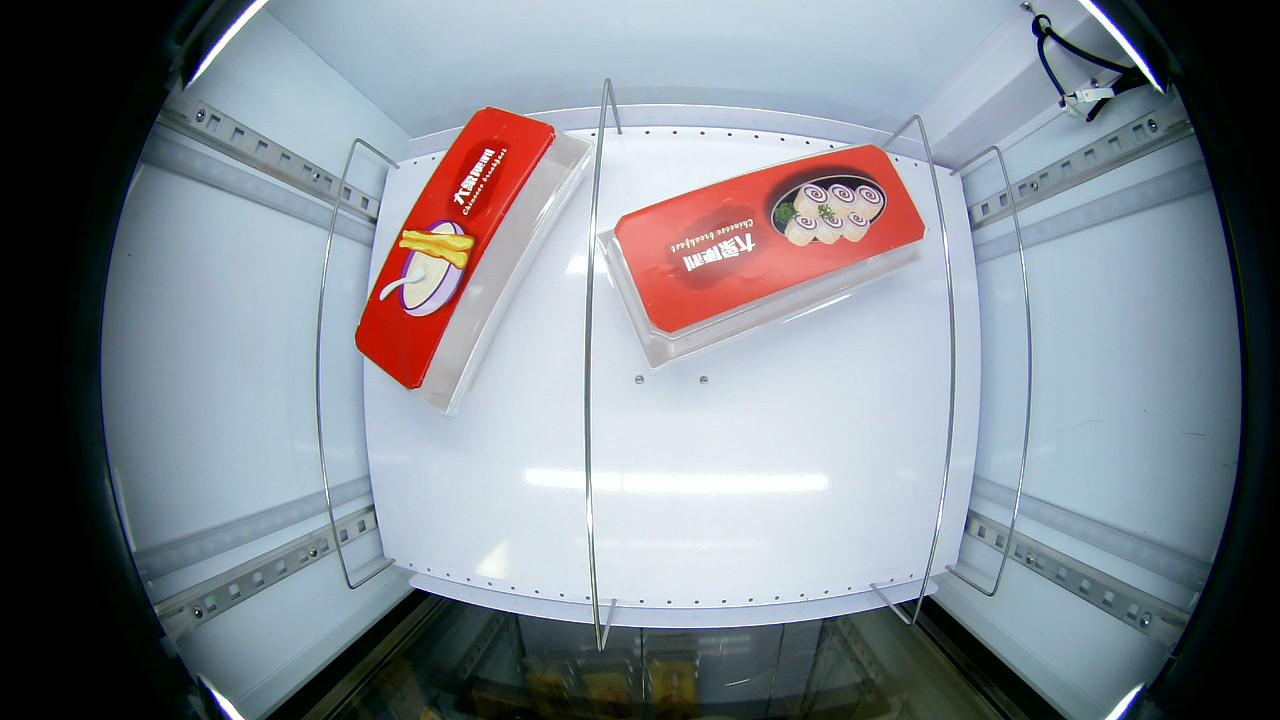goods: (375, 213, 476, 323), (770, 173, 891, 245)
